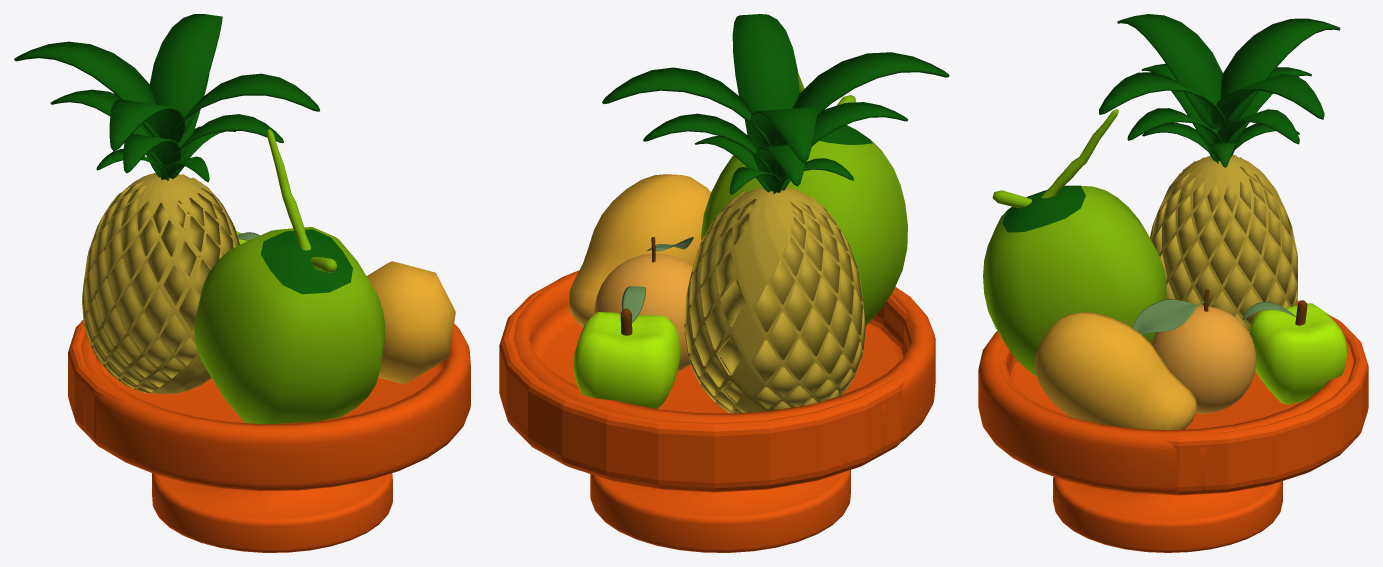
File: in_mam_ngu_qua.glb
3 views of the same model, side by side, from view 1: azimuth 30°, elevation 25°; view 2: azimuth 150°, elevation 25°; view 3: azimuth 270°, elevation 25° (orthographic). The views are drawn at different scales.
Parts seen in each view (by area): view 1: Cylinder_dia_0, Cube.001_trai dua_0, Sphere_trai dua.001_0, Cube.001_la cay.001_0, Cube_Material.004_0; view 2: Cylinder_dia_0, Sphere_trai dua.001_0, Cube.001_la cay.001_0, Cube.001_trai dua_0, Cube_Material.004_0, Plane.012_trai na_0, Cylinder.002_Material.003_0, Cylinder.002_la_0; view 3: Cylinder_dia_0, Cube.001_trai dua_0, Cube.001_la cay.001_0, Sphere_trai dua.001_0, Cube_Material.004_0, Cylinder.002_Material.003_0, Plane.012_trai na_0, Cylinder.002_la_0.
Boxes of the visible parts, left/top/right/bottom form: Cylinder_dia_0: left=68, top=320, right=470, bottom=552; Cube.001_trai dua_0: left=194, top=129, right=385, bottom=424; Sphere_trai dua.001_0: left=82, top=173, right=240, bottom=394; Cube.001_la cay.001_0: left=14, top=14, right=352, bottom=294; Cube_Material.004_0: left=366, top=261, right=455, bottom=383; Cylinder_dia_0: left=499, top=270, right=935, bottom=552; Sphere_trai dua.001_0: left=684, top=187, right=865, bottom=413; Cube.001_la cay.001_0: left=602, top=14, right=949, bottom=194; Cube.001_trai dua_0: left=701, top=73, right=907, bottom=325; Cube_Material.004_0: left=569, top=174, right=710, bottom=327; Plane.012_trai na_0: left=573, top=312, right=680, bottom=408; Cylinder.002_Material.003_0: left=594, top=253, right=692, bottom=371; Cylinder.002_la_0: left=621, top=237, right=693, bottom=322; Cylinder_dia_0: left=978, top=300, right=1368, bottom=552; Cube.001_trai dua_0: left=983, top=109, right=1166, bottom=376; Cube.001_la cay.001_0: left=1002, top=14, right=1340, bottom=232; Sphere_trai dua.001_0: left=1150, top=155, right=1297, bottom=332; Cube_Material.004_0: left=1035, top=312, right=1197, bottom=430; Cylinder.002_Material.003_0: left=1151, top=306, right=1256, bottom=413; Plane.012_trai na_0: left=1249, top=303, right=1347, bottom=404; Cylinder.002_la_0: left=1133, top=299, right=1295, bottom=334.
Size of the model in its own units: 0.385 by 0.45 by 0.3818.
